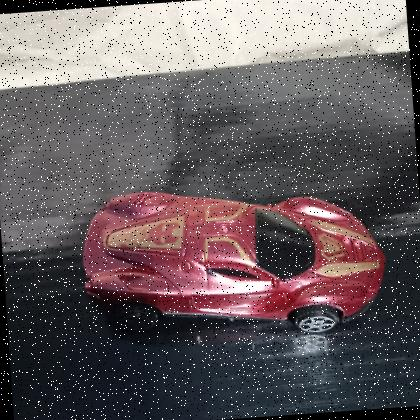Car: (69, 162, 398, 358)
